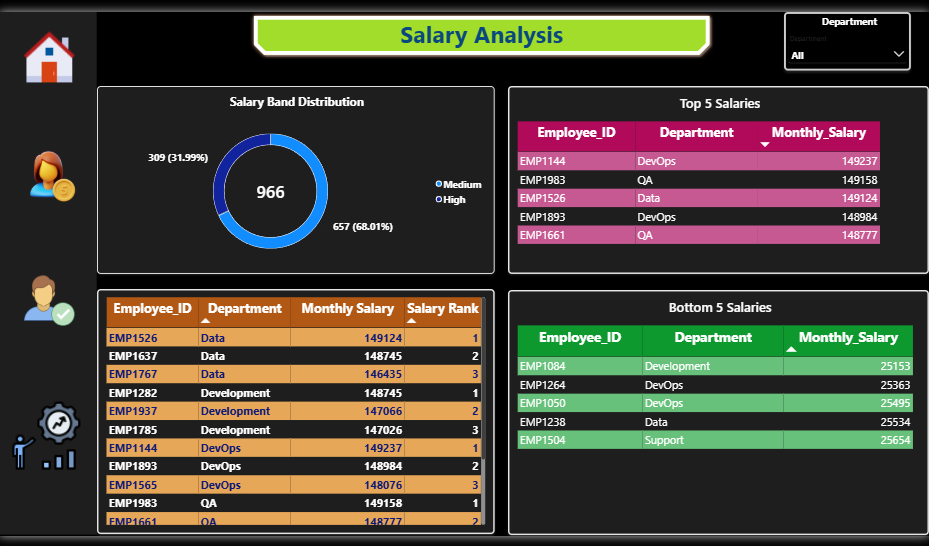

Layout of this report page (visuals, bound fields, positions):
{"tool":"powerbi","page":{"name":"emp_salary","canvas":[1920,1080],"ordinal":1},"visuals":[{"type":"shape","box":[0,0,201.7,1079.1],"z":0},{"type":"shape","box":[519.2,0,956.8,96.5],"z":1000},{"type":"image","box":[27.9,27.9,150.2,126.6],"z":2000},{"type":"image","box":[27.9,278.9,160.9,113.7],"z":3000},{"type":"image","box":[36.5,540.6,130.9,107.3],"z":4000},{"type":"image","box":[23.6,787.3,150.2,175.9],"z":5000},{"type":"slicer","title":"Department ","fields":{"Values":["employee_db employee_performance.Department"]},"box":[1620.2,0,262,120.9],"z":6000},{"type":"donutChart","title":"Salary Band Distribution","fields":{"Category":["employee_db employee_performance.salary band"],"Y":["employee_db employee_performance.Total_employees"]},"box":[201.6,153.7,821.4,388],"z":7000},{"type":"tableEx","title":"Top 5 Salaries","fields":{"Values":["employee_db employee_performance.Employee_ID","employee_db employee_performance.Department","employee_db employee_performance.Monthly_Salary"]},"box":[1050.7,153.7,869.3,388],"z":8000},{"type":"tableEx","title":"Bottom 5 Salaries","fields":{"Values":["employee_db employee_performance.Employee_ID","employee_db employee_performance.Department","employee_db employee_performance.Monthly_Salary"]},"box":[1050.7,574.5,869.3,506],"z":9000},{"type":"tableEx","fields":{"Values":["employee_db employee_performance.Employee_ID","employee_db employee_performance.Department","employee_db employee_performance.Monthly_Salary","employee_db employee_performance.Salary Rank"]},"box":[201.6,572,821.4,506.5],"z":10000}]}

Visuals, with their boxes on the page's 1920x1080 design canvas (x1, y1, x2, y2). These are canvas units, not pixel positions in the 929x546 screenshot, which may show the page scaled, cropped or inside an application window:
shape: [0,0,202,1079]
shape: [519,0,1476,96]
image: [28,28,178,154]
image: [28,279,189,393]
image: [36,541,167,648]
image: [24,787,174,963]
"Department " slicer: [1620,0,1882,121]
"Salary Band Distribution" donutChart: [202,154,1023,542]
"Top 5 Salaries" tableEx: [1051,154,1920,542]
"Bottom 5 Salaries" tableEx: [1051,574,1920,1080]
tableEx - employee_db employee_performance.Employee_ID x employee_db employee_performance.Department: [202,572,1023,1078]
